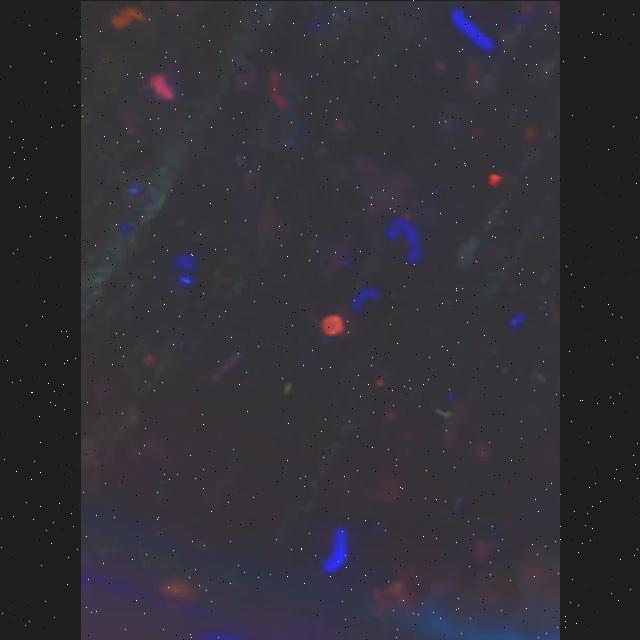Fragment: (110, 6, 144, 28)
